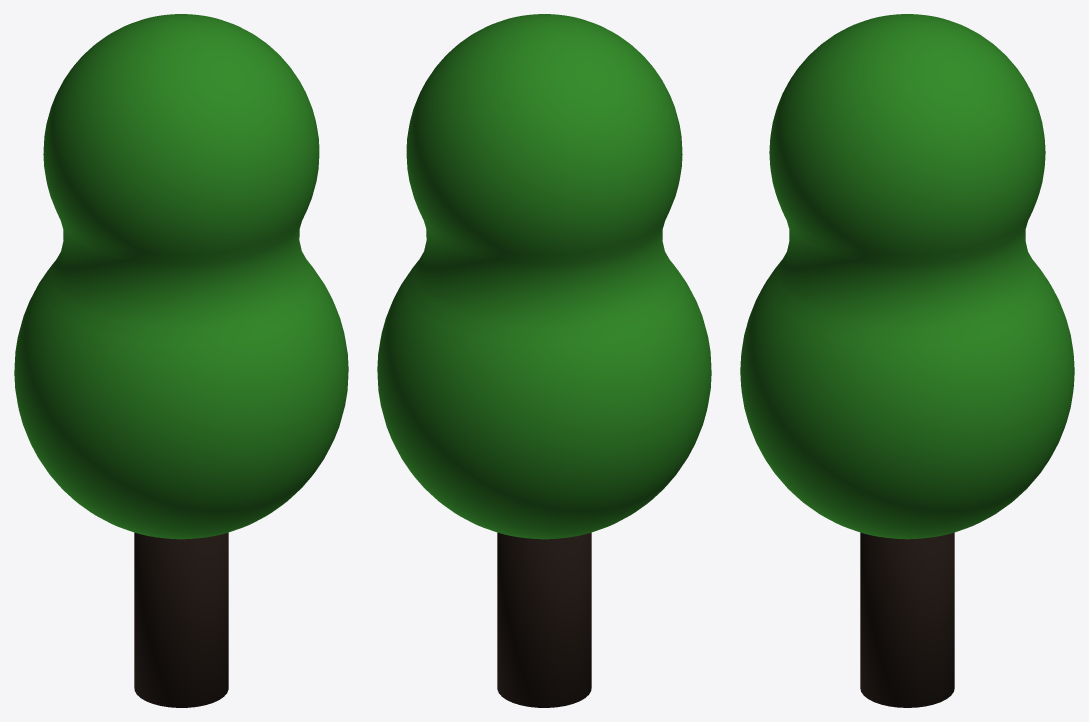
3 views of the same model, side by side, from view 1: azimuth 30°, elevation 25°; view 2: azimuth 150°, elevation 25°; view 3: azimuth 270°, elevation 25° (orthographic).
Parts seen in each view (by area): view 1: leaf, wood; view 2: leaf, wood; view 3: leaf, wood.
Boxes of the visible parts, <box> form: leaf: <box>14,14,348,539</box>; wood: <box>134,532,228,707</box>; leaf: <box>377,14,711,539</box>; wood: <box>497,532,591,707</box>; leaf: <box>740,14,1074,539</box>; wood: <box>860,532,954,707</box>.
Size of the model in its own units: 1.44 by 3.14 by 1.44.
